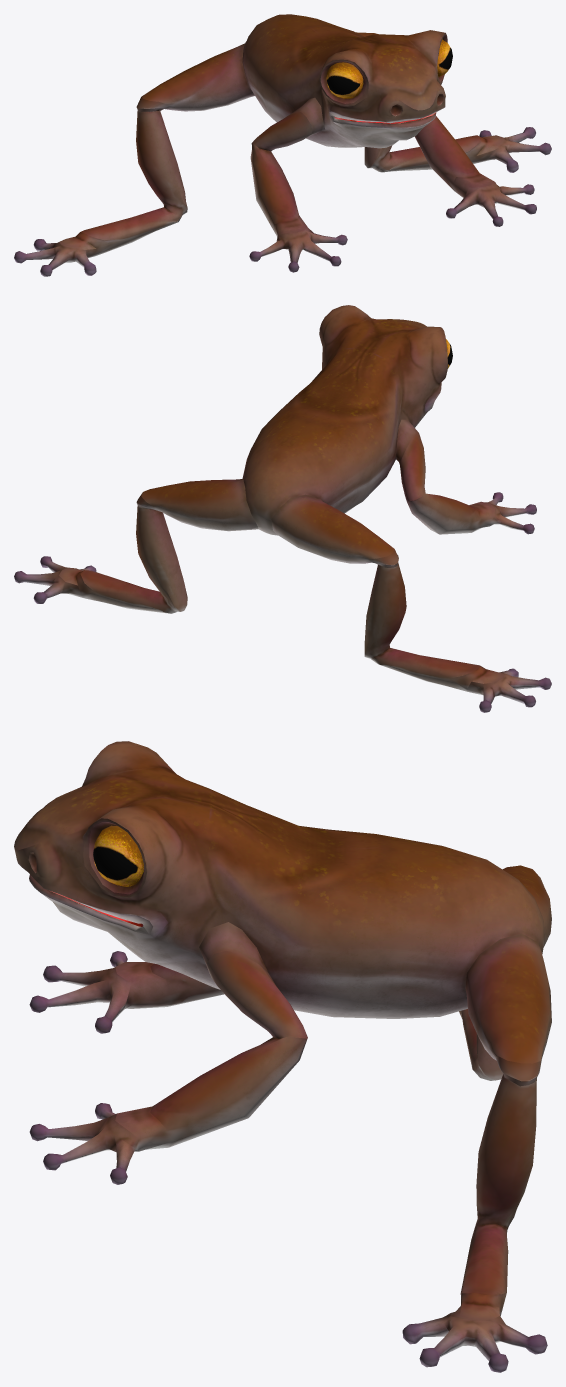
The model's file is 4_Rana_Chocolatera.fbx.
3 views of the same model, one above another, from view 1: azimuth 30°, elevation 25°; view 2: azimuth 150°, elevation 25°; view 3: azimuth 270°, elevation 25° (orthographic). The views are drawn at different scales.
Visible parts, largest first — view 1: 4_Rana__Chocolatera; view 2: 4_Rana__Chocolatera; view 3: 4_Rana__Chocolatera.
Part boxes in pixels (x1,y1,x2,y2): 4_Rana__Chocolatera: (14, 14, 551, 276); 4_Rana__Chocolatera: (14, 305, 551, 712); 4_Rana__Chocolatera: (14, 741, 551, 1372).
Size of the model in its own units: 1365 by 617 by 755.
